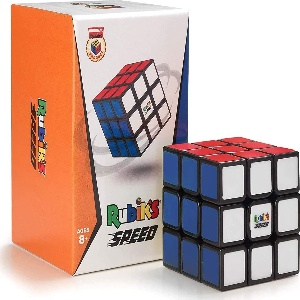cube: (162, 137, 299, 293), (92, 59, 172, 158)
